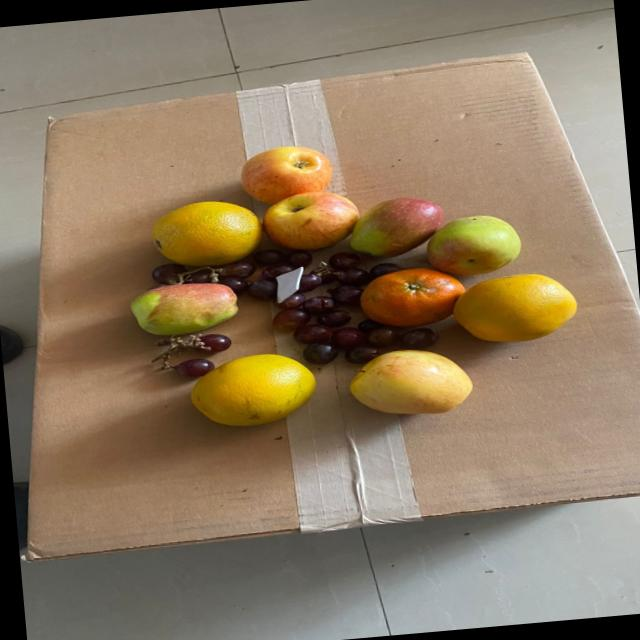hoja: (266, 266, 304, 300)
